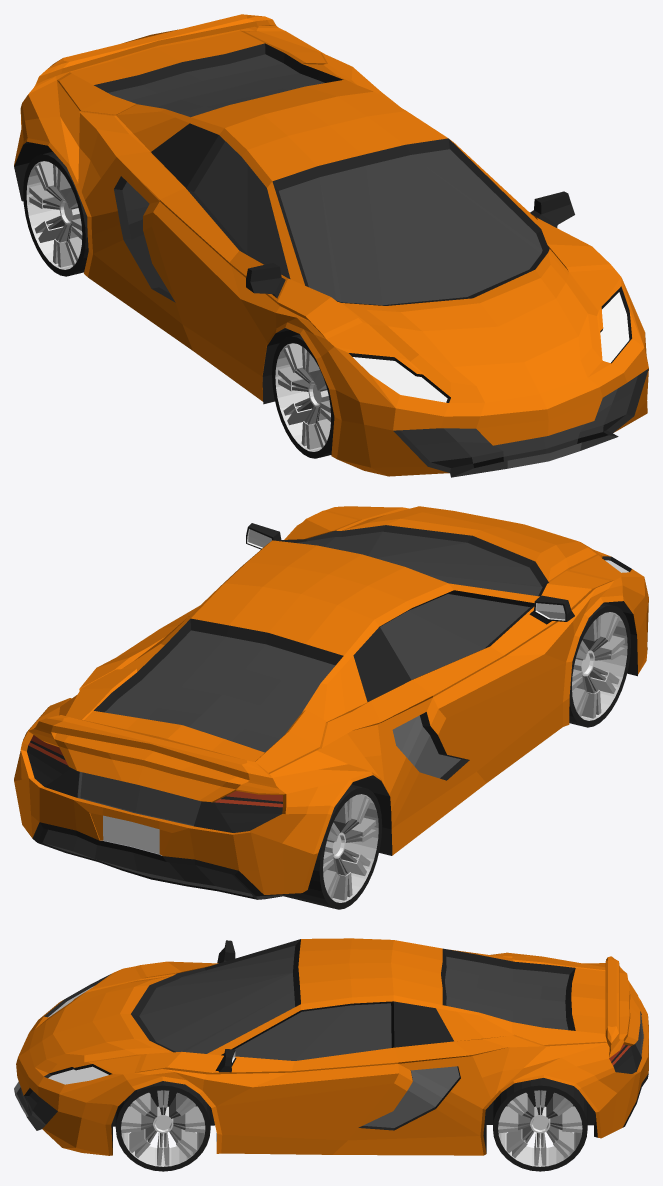
File: mclarenmp412c.fbx
3 views of the same model, one above another, from view 1: azimuth 30°, elevation 25°; view 2: azimuth 150°, elevation 25°; view 3: azimuth 270°, elevation 25° (orthographic). The views are drawn at different scales.
Parts seen in each view (by area): view 1: OrangeBody, BackRight, FrontRight; view 2: OrangeBody, BackRight, FrontRight; view 3: OrangeBody, BackLeft, FrontLeft.
Boxes of the visible parts, x1=… form: OrangeBody: x1=14, y1=14, x2=648, y2=477; BackRight: x1=23, y1=151, x2=88, y2=276; FrontRight: x1=272, y1=334, x2=334, y2=458; OrangeBody: x1=14, y1=506, x2=648, y2=899; BackRight: x1=284, y1=784, x2=382, y2=909; FrontRight: x1=569, y1=603, x2=630, y2=727; OrangeBody: x1=14, y1=938, x2=648, y2=1155; BackLeft: x1=493, y1=1078, x2=587, y2=1171; FrontLeft: x1=115, y1=1081, x2=210, y2=1171.
Bounding box in the file's own units: 1.97 × 4.46 × 1.19.
